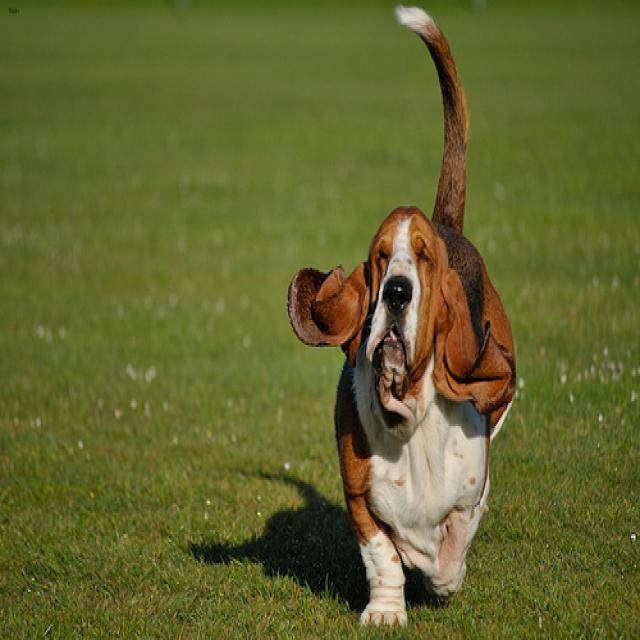dog-basset_hound: (283, 2, 520, 636)
